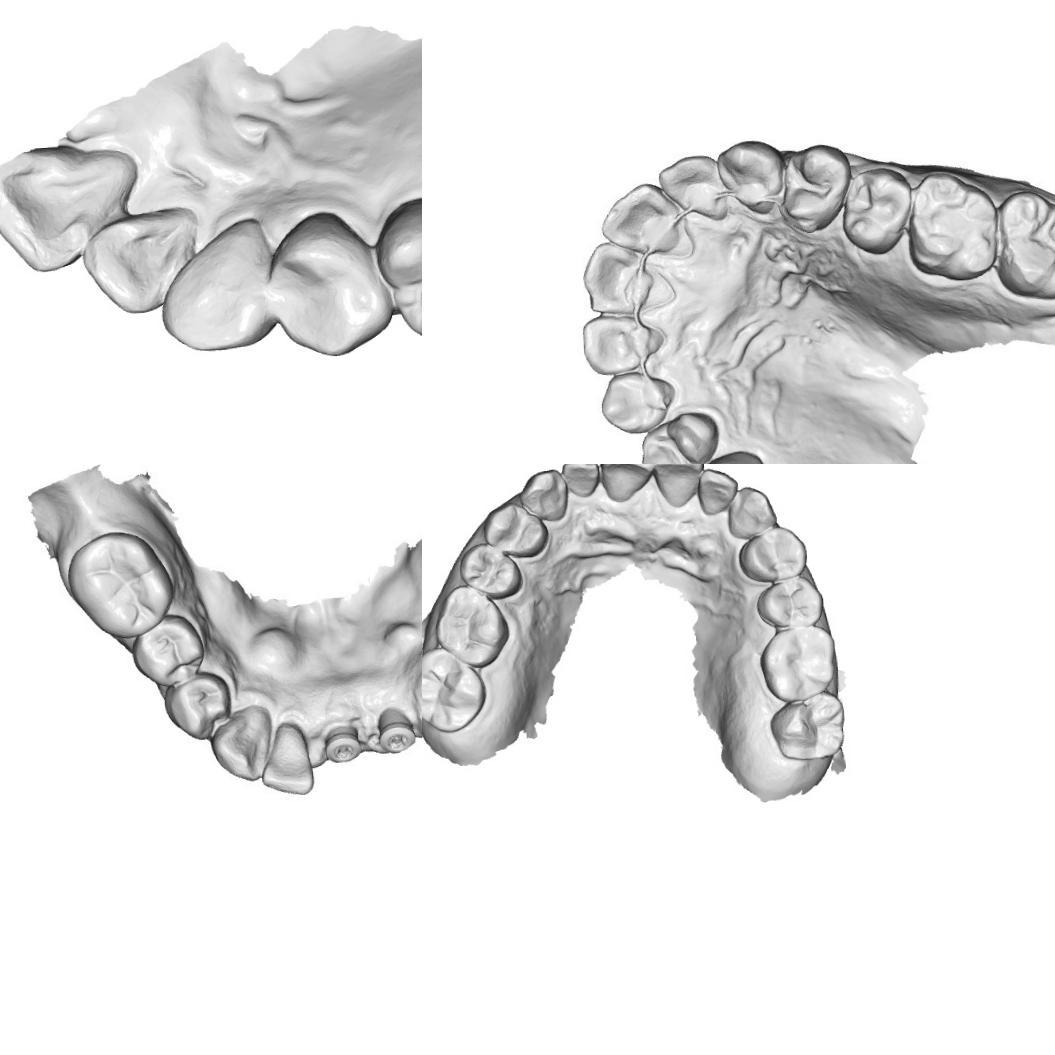canine: (154, 213, 276, 356), (716, 136, 787, 213), (598, 366, 676, 436), (211, 706, 273, 778), (725, 483, 778, 540), (518, 468, 570, 524)
implant_minus: (370, 696, 422, 766), (321, 712, 368, 770)
incisor: (0, 137, 143, 276), (78, 204, 204, 318), (597, 180, 686, 258), (581, 243, 669, 316), (656, 150, 730, 225), (578, 308, 659, 376), (259, 717, 318, 792), (597, 464, 656, 504), (651, 464, 706, 506), (695, 465, 740, 515), (558, 464, 601, 498)
molar: (903, 164, 1005, 284), (67, 528, 170, 634), (994, 182, 1055, 305), (431, 582, 510, 671), (756, 624, 837, 703), (422, 642, 487, 734), (766, 690, 848, 762)
premolar: (266, 204, 396, 361), (370, 191, 422, 346), (128, 609, 202, 686), (779, 143, 846, 227), (843, 166, 910, 248), (635, 407, 722, 464), (164, 666, 232, 736), (734, 524, 809, 584), (479, 499, 550, 560), (456, 540, 522, 600), (754, 574, 824, 630)
